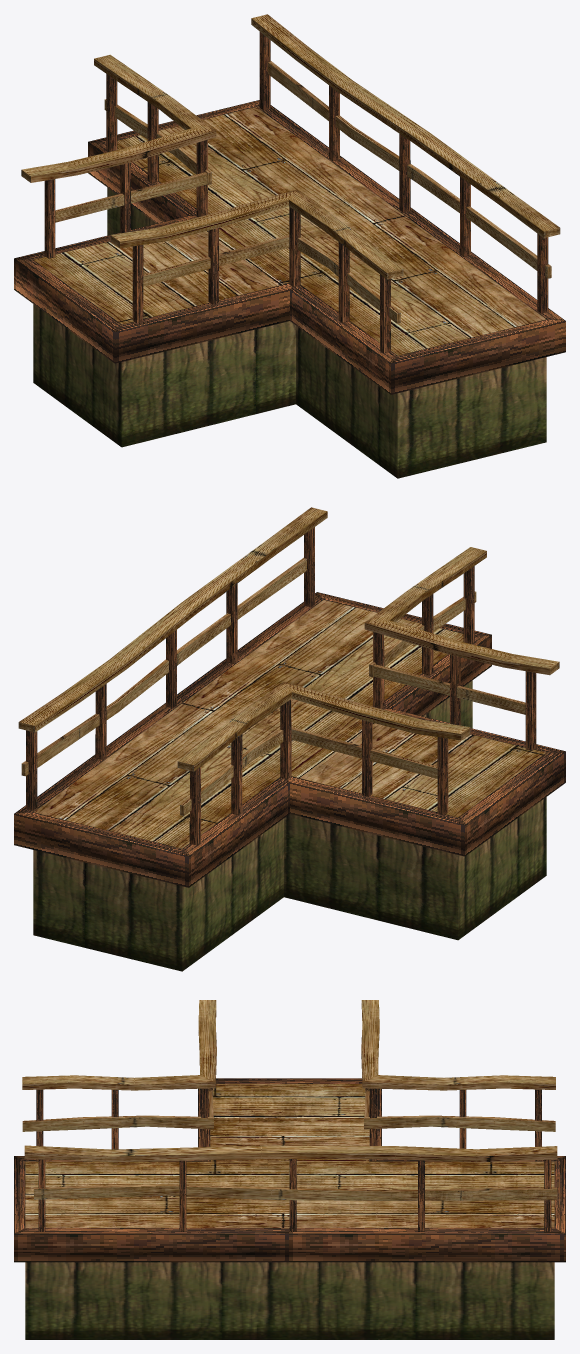
Rendered from INST_WH2_T_BLOCK.obj.
3 views of the same model, one above another, from view 1: azimuth 30°, elevation 25°; view 2: azimuth 150°, elevation 25°; view 3: azimuth 270°, elevation 25° (orthographic). The views are drawn at different scales.
Visible parts, largest first — view 1: T_Block_001__GX; view 2: T_Block_001__GX; view 3: T_Block_001__GX.
Part boxes in pixels (x1,y1,x2,y2): T_Block_001__GX: (14, 14, 565, 478); T_Block_001__GX: (14, 507, 565, 971); T_Block_001__GX: (14, 1000, 565, 1339).
Size of the model in its own units: 403 by 231 by 600.
